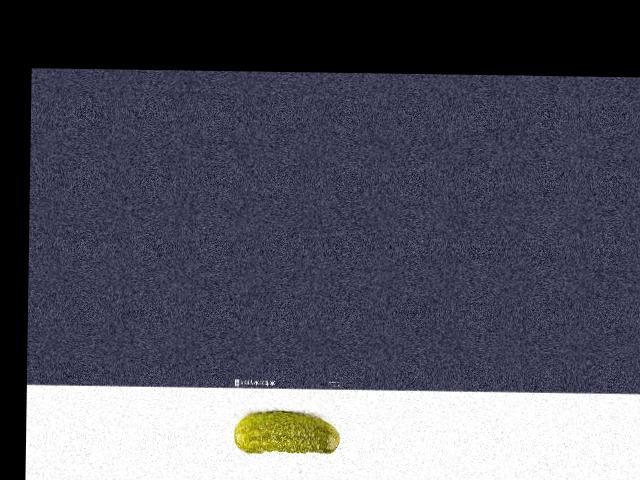cucumber: (234, 410, 341, 454)
